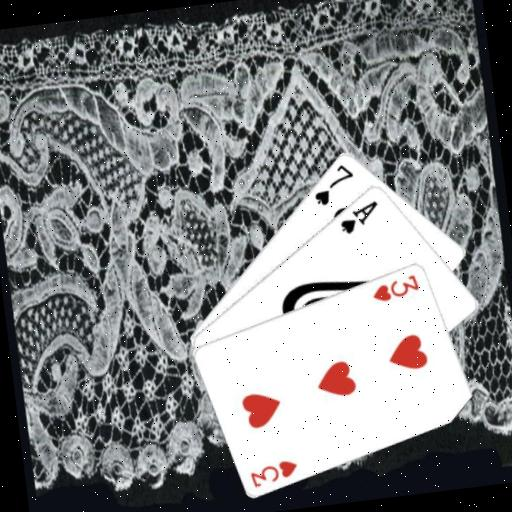3H: (246, 455, 301, 490), (368, 271, 423, 305)
7S: (307, 159, 358, 208)
AS: (335, 197, 383, 237)
